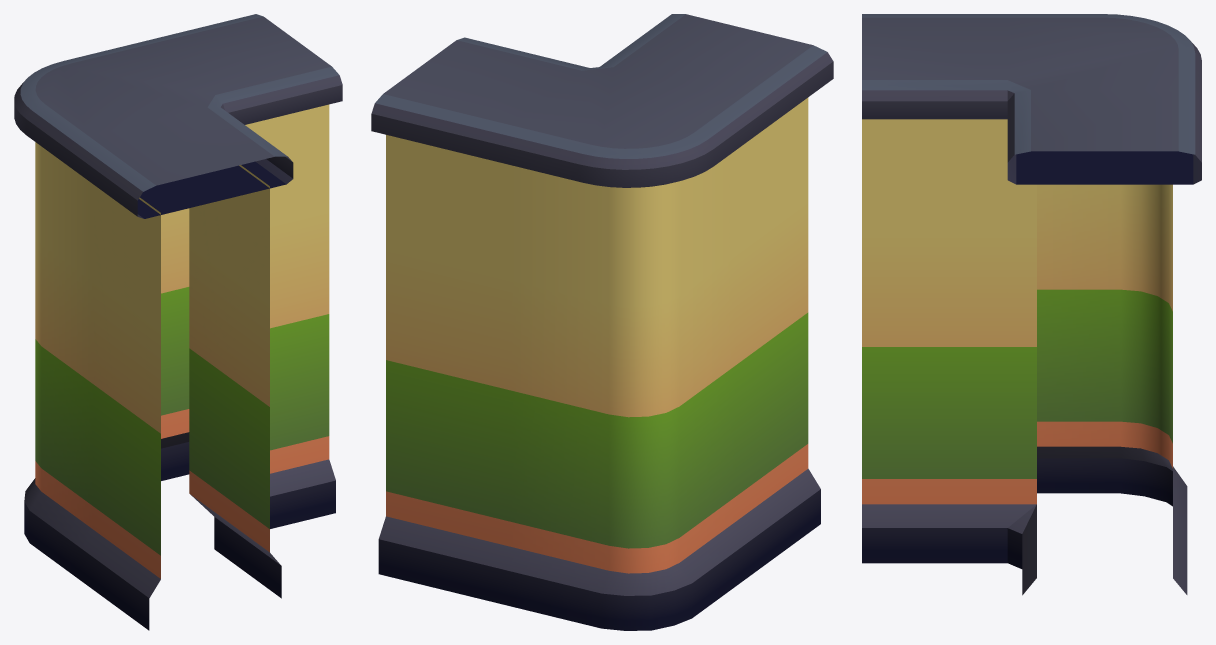
The model's file is wall_corner.fbx.
The picture shows the model from 3 angles, left to right: view 1: azimuth 30°, elevation 25°; view 2: azimuth 150°, elevation 25°; view 3: azimuth 270°, elevation 25°; orthographic projection. The views are drawn at different scales.
Parts seen in each view (by area): view 1: wall_corner; view 2: wall_corner; view 3: wall_corner.
Boxes of the visible parts, <box> form: wall_corner: <box>14,14,342,630</box>; wall_corner: <box>371,14,833,630</box>; wall_corner: <box>862,14,1201,595</box>.
Bounding box in the file's own units: 129 × 200 × 129.
